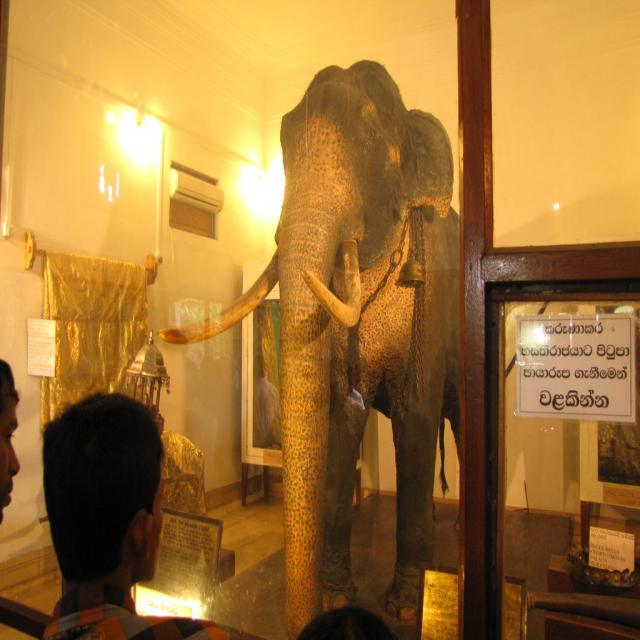elephant: (156, 60, 461, 640)
